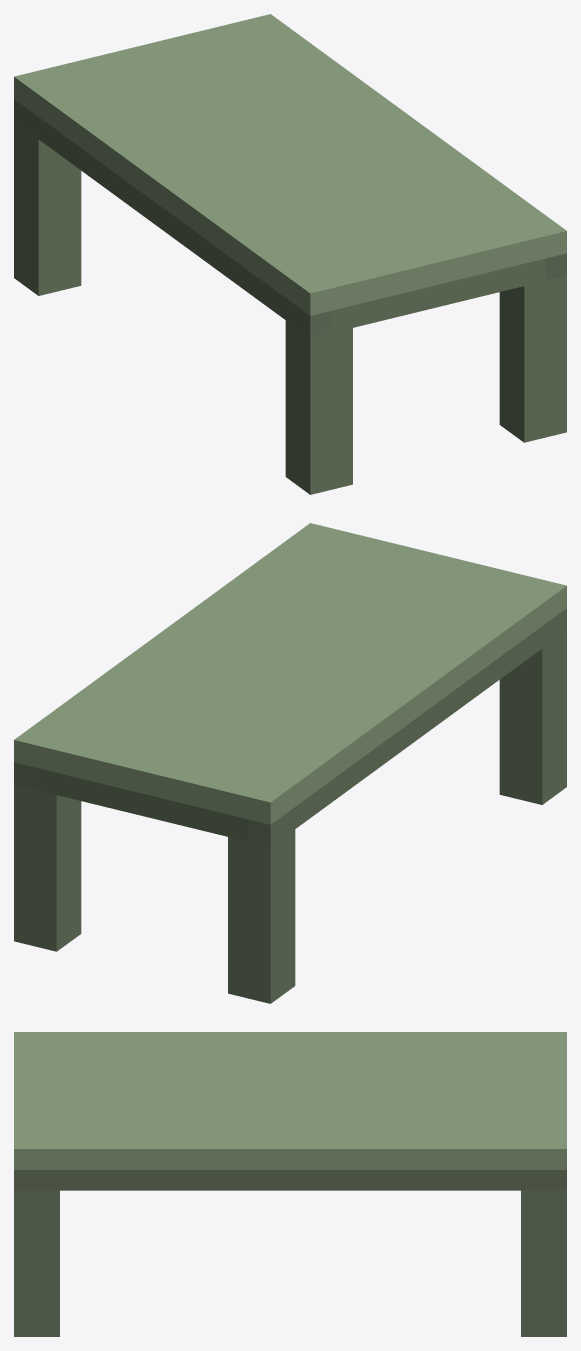
File: bancada_cultivo_desgastada_01.glb
The picture shows the model from 3 angles, top to bottom: view 1: azimuth 30°, elevation 25°; view 2: azimuth 150°, elevation 25°; view 3: azimuth 270°, elevation 25°; orthographic projection. The views are drawn at different scales.
Parts seen in each view (by area): view 1: bancada_cultivo_desgastada; view 2: bancada_cultivo_desgastada; view 3: bancada_cultivo_desgastada.
Part boxes in pixels (x1=…): bancada_cultivo_desgastada: x1=14, y1=14, x2=566, y2=494; bancada_cultivo_desgastada: x1=14, y1=523, x2=566, y2=1003; bancada_cultivo_desgastada: x1=14, y1=1032, x2=566, y2=1336.
Size of the model in its own units: 1 by 0.75 by 2.
